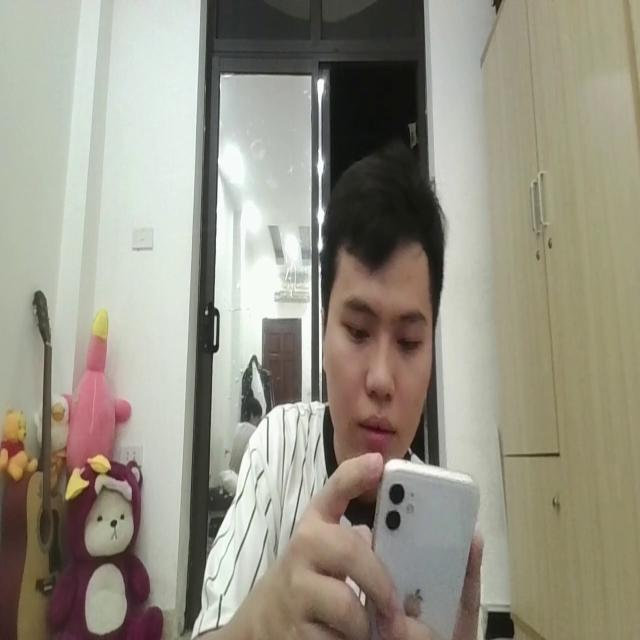phone: (373, 449, 479, 640)
student: (170, 139, 487, 640)
